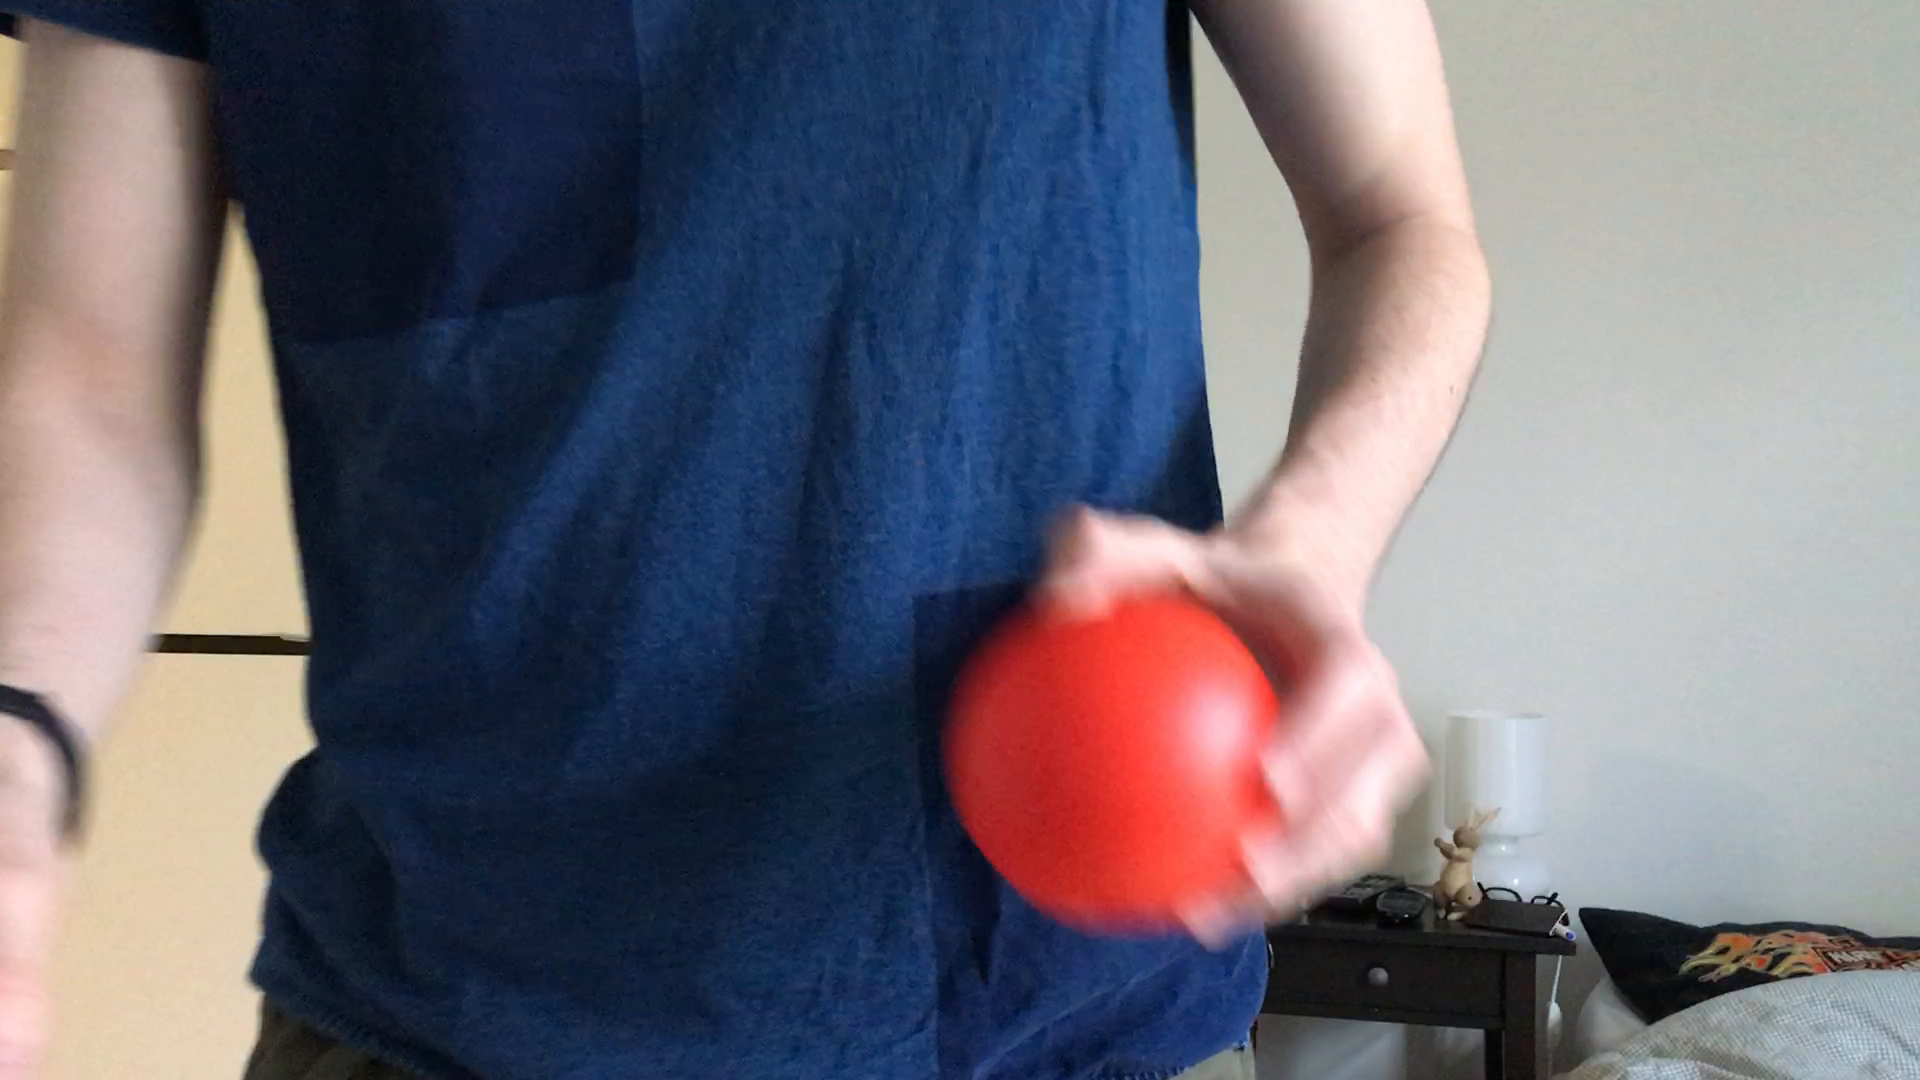Ball: (955, 572, 1305, 936)
